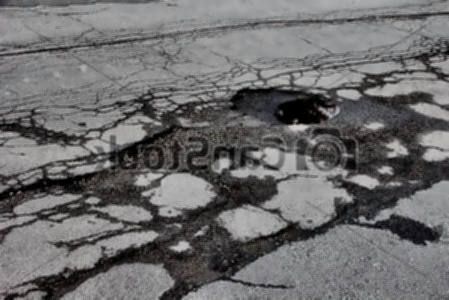pothole: (229, 82, 346, 126), (118, 124, 185, 154)
